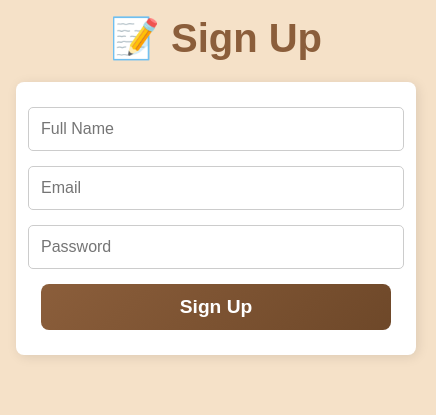
Signup Page › displays error on failed signup
Type "John Doe" into the field with placeholder "Full Name" at (216,129), box [28,107,404,151]
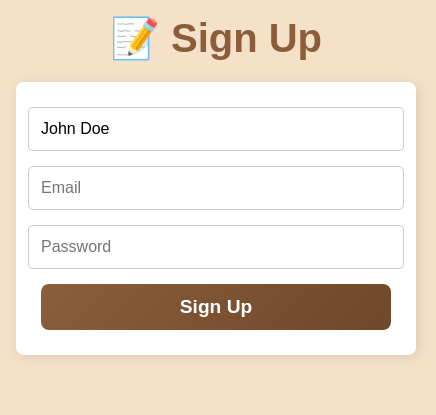
Type "john@example.com" into the field with placeholder "Email" at (216,188), box [28,166,404,210]
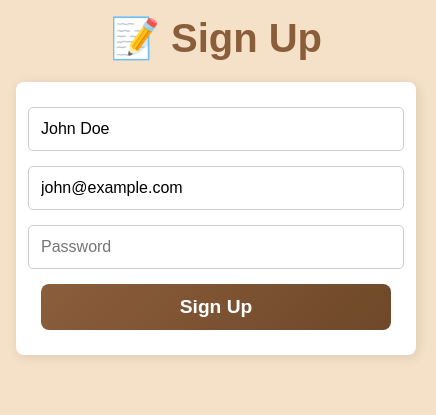
Type "password123" into the password field with placeholder "Password" at (216,247), box [28,225,404,269]
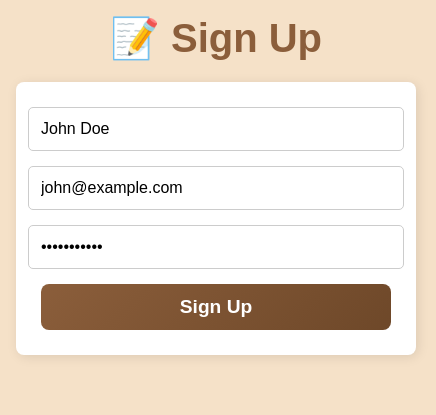
Click the button "Sign Up" at (216,307), box [41,284,391,330]
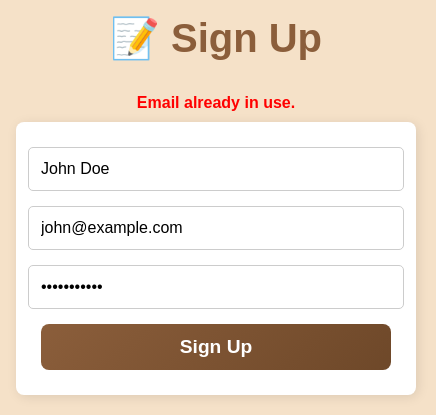
Expected: the text "Email already in use." is shown, [137,94,295,112]
